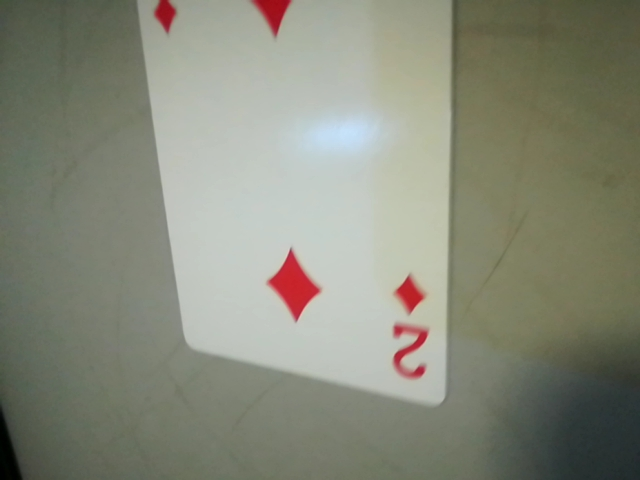fk 2: (376, 264, 446, 392)
